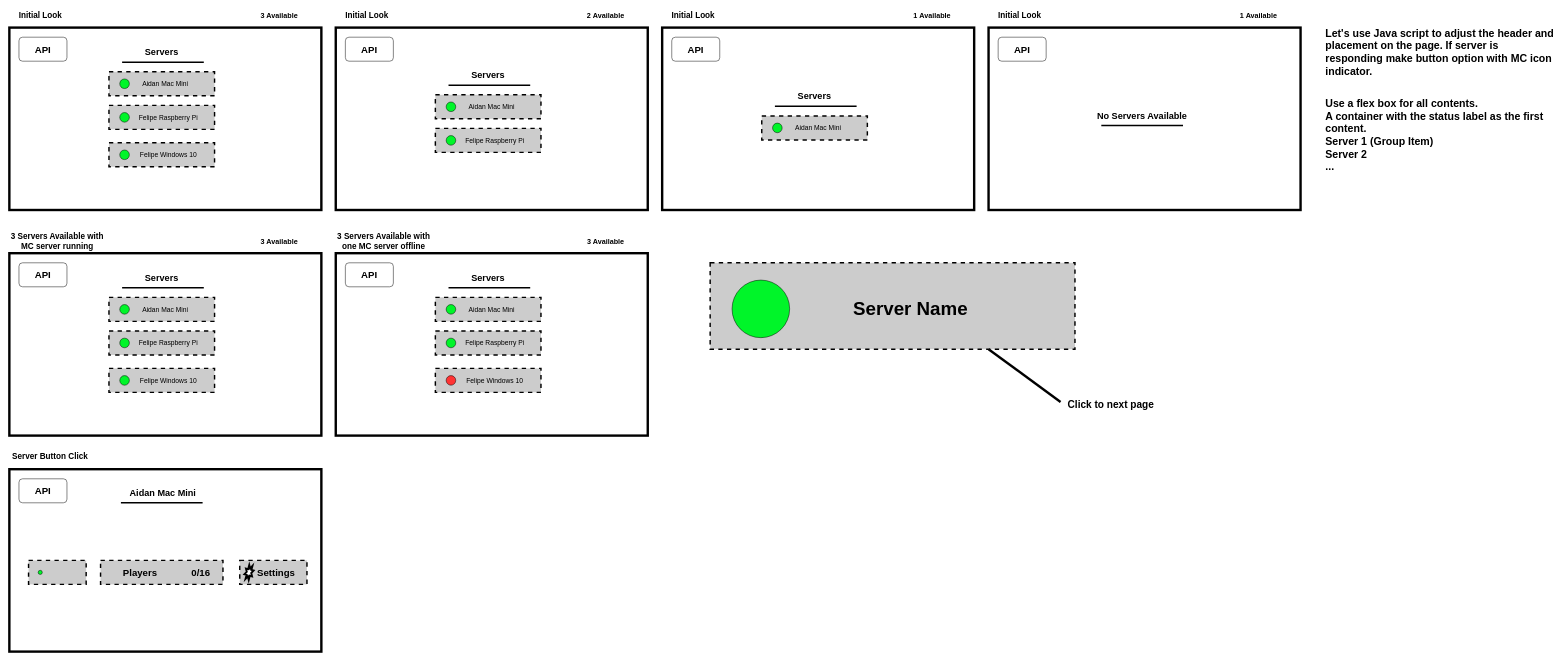
This 1563x661 diagram has some shape labels left out. Here are the shapes that lost their labels. From the top down, the centre of each, then its label:
At [761,309]: "MC indicator".
At [57,572]: "Online".
